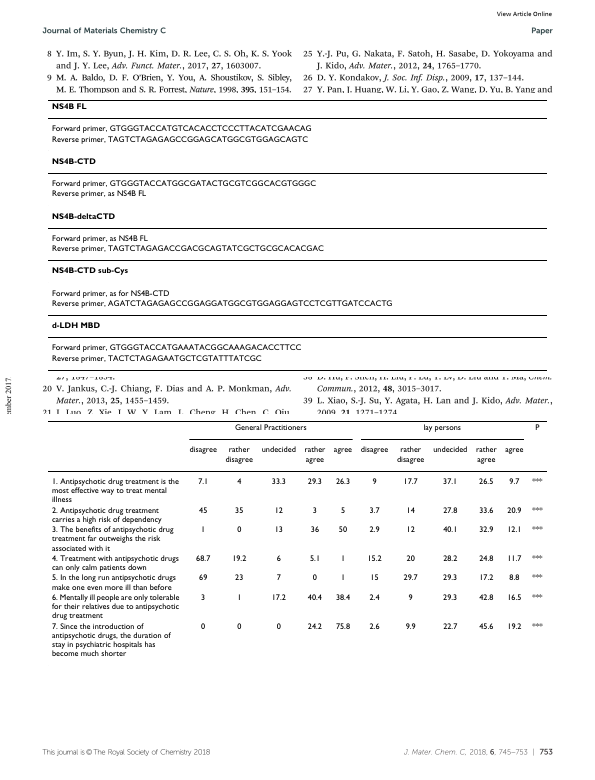borderless: (47, 98, 547, 370), (46, 419, 548, 667)
cell: (50, 622, 171, 659), (50, 593, 180, 621), (50, 477, 179, 505), (50, 525, 174, 554), (50, 299, 393, 309), (50, 244, 324, 254), (50, 179, 317, 189), (50, 135, 309, 145), (50, 573, 176, 593), (50, 554, 179, 573), (50, 125, 312, 134), (50, 344, 302, 353), (50, 506, 162, 525), (50, 354, 262, 364), (50, 289, 170, 299), (50, 234, 148, 244), (50, 190, 147, 199), (233, 423, 307, 433), (50, 267, 129, 276), (50, 212, 116, 222), (395, 446, 425, 465), (224, 446, 253, 465), (50, 157, 96, 167), (50, 322, 100, 331), (303, 446, 326, 465), (474, 446, 497, 465), (422, 423, 461, 433), (50, 103, 87, 112), (260, 446, 296, 455), (432, 446, 468, 455), (359, 446, 389, 455), (188, 446, 217, 455), (332, 446, 353, 455), (504, 446, 524, 455), (334, 593, 351, 603), (334, 622, 351, 632), (270, 477, 286, 487), (306, 477, 322, 487), (334, 477, 350, 487), (402, 477, 418, 487), (442, 477, 458, 487), (478, 477, 494, 487), (442, 506, 458, 516), (478, 506, 494, 516), (506, 506, 522, 516), (442, 525, 458, 535), (478, 525, 494, 535), (506, 525, 522, 535), (195, 554, 211, 564), (231, 554, 247, 564), (366, 554, 382, 564), (442, 554, 458, 564), (478, 554, 494, 564), (506, 554, 522, 564), (402, 573, 418, 583), (442, 573, 458, 583), (478, 573, 494, 583), (270, 593, 286, 603), (306, 593, 322, 603), (442, 593, 458, 603), (478, 593, 494, 603), (506, 593, 522, 603), (306, 622, 322, 632), (442, 622, 458, 632), (478, 622, 494, 632), (506, 622, 522, 632), (197, 477, 209, 487), (508, 477, 520, 487), (531, 477, 543, 487), (368, 506, 380, 516), (531, 506, 543, 516), (368, 525, 380, 535), (531, 525, 543, 535), (308, 554, 320, 564), (531, 554, 543, 564), (508, 573, 520, 583), (531, 573, 543, 583), (368, 593, 380, 603), (531, 593, 543, 603), (368, 622, 380, 632), (404, 622, 416, 632), (531, 622, 543, 632), (309, 525, 320, 535), (337, 525, 348, 535), (198, 506, 208, 516), (234, 506, 244, 516), (273, 506, 283, 516), (405, 506, 415, 516), (273, 525, 283, 535), (405, 525, 415, 535), (405, 554, 415, 564), (198, 573, 208, 583), (234, 573, 244, 583), (369, 573, 379, 583), (339, 506, 346, 516), (339, 554, 346, 564), (339, 573, 346, 583), (534, 423, 540, 433), (236, 477, 242, 487), (371, 477, 377, 487), (311, 506, 317, 516), (200, 525, 206, 535), (236, 525, 242, 535), (275, 554, 281, 564), (275, 573, 281, 583), (311, 573, 317, 583), (200, 593, 206, 603), (236, 593, 242, 603), (407, 593, 413, 603), (200, 622, 206, 632), (236, 622, 242, 632), (275, 622, 281, 632)
